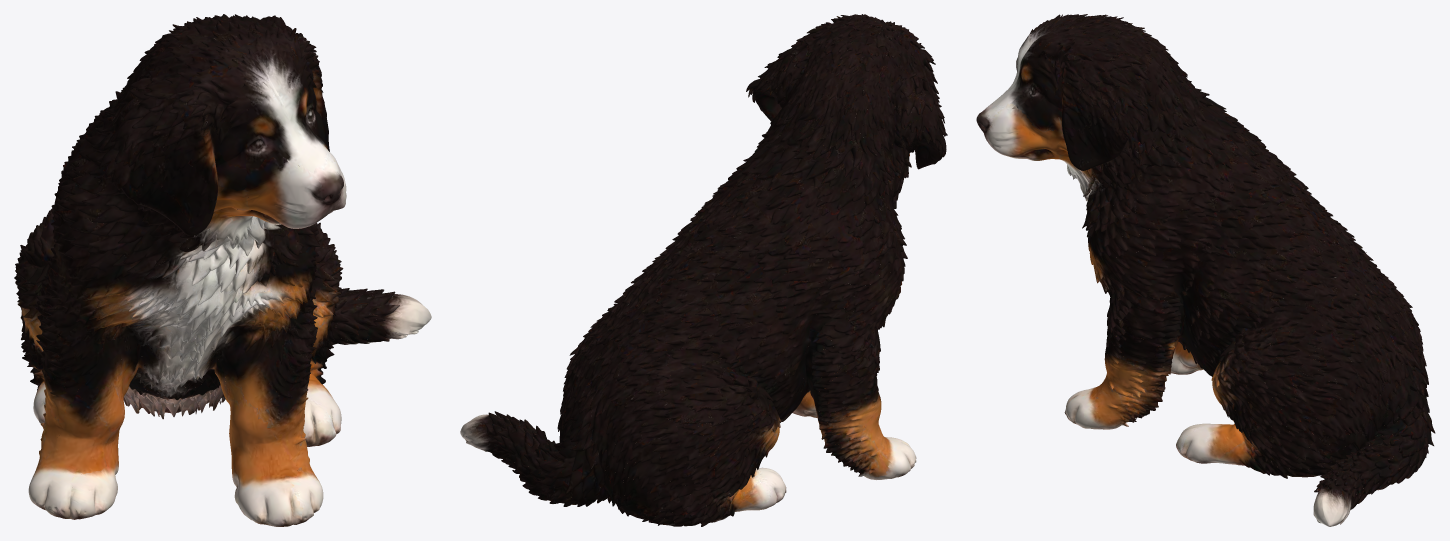
File: Puppy.glb
The picture shows the model from 3 angles, left to right: view 1: azimuth 30°, elevation 25°; view 2: azimuth 150°, elevation 25°; view 3: azimuth 270°, elevation 25°; orthographic projection. The views are drawn at different scales.
Visible parts, largest first — view 1: puppy; view 2: puppy; view 3: puppy.
Boxes of the visible parts, bbox=[...] form: puppy: bbox=[14, 14, 431, 526]; puppy: bbox=[460, 14, 947, 526]; puppy: bbox=[976, 14, 1435, 526].
Size of the model in its own units: 0.4055 by 0.3971 by 0.4369.
1 material, 1 textured.
